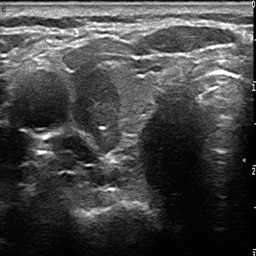mass: (73, 69, 123, 151)
